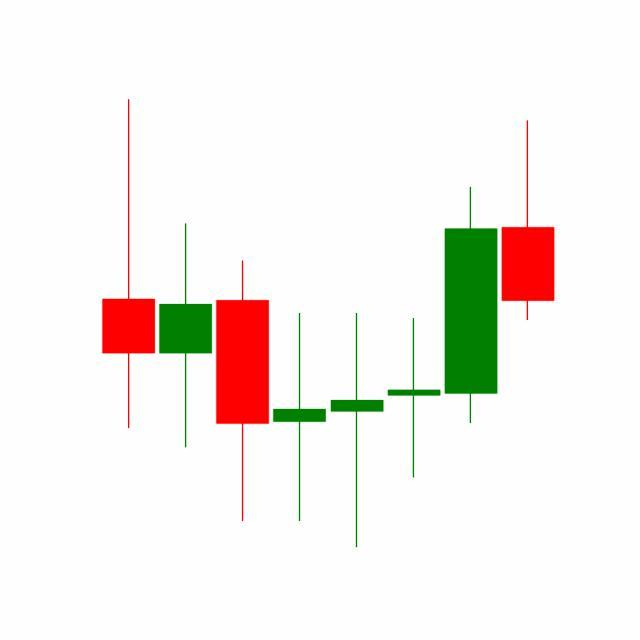Hikkake Pattern: (214, 183, 501, 549)
